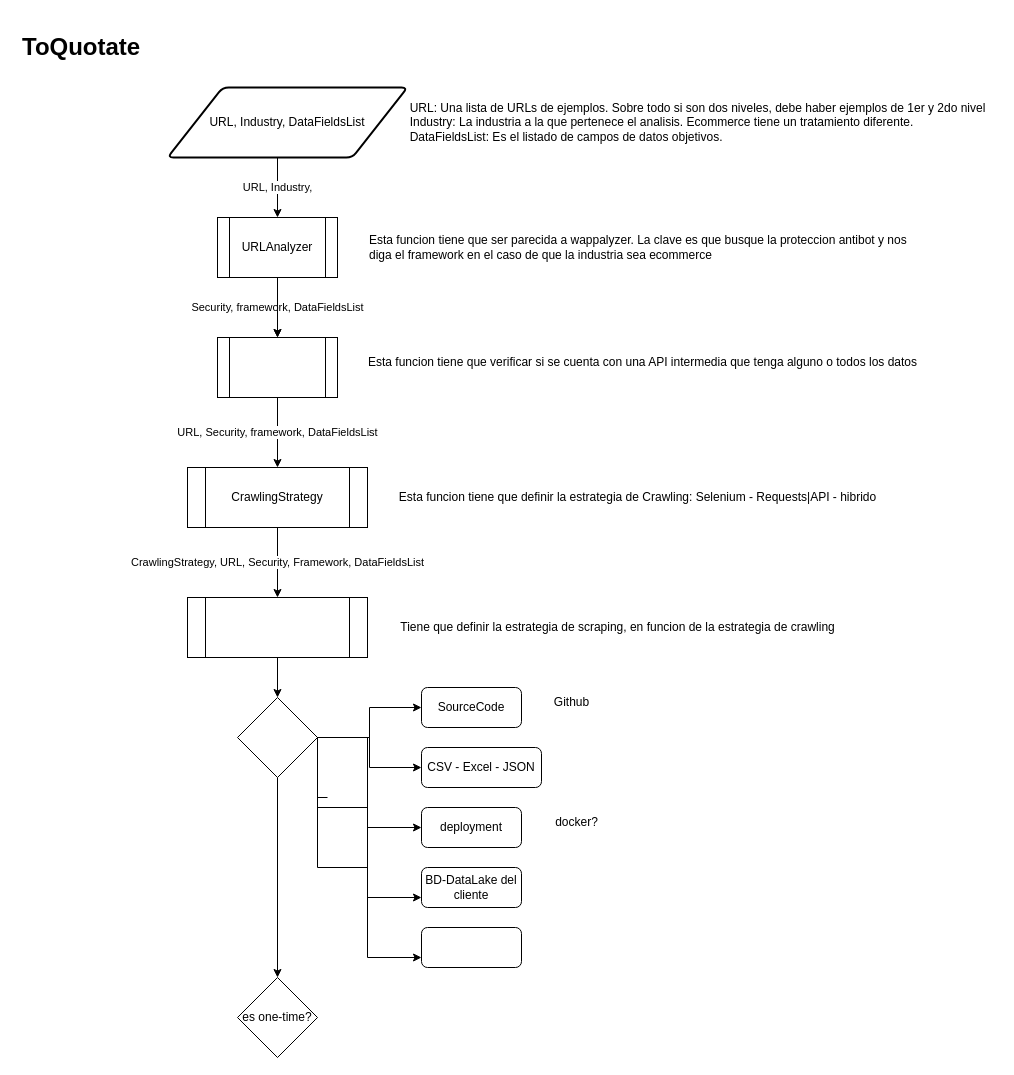
The diagram is 1014 pixels wide and 1075 high, and some of its shapes have lost their labels. The centre of each missing label's shape, as x and y in pixels:
AS-Platform: (471,947)
MiddleAPI: (277,367)
que se entrega?: (277,737)
ScrapingStrategy: (277,627)
